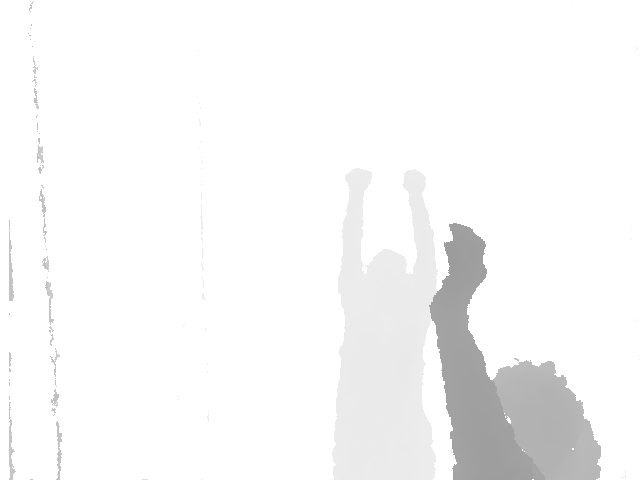hand: (442, 224, 487, 292), (402, 171, 426, 200), (344, 168, 372, 190)
head: (487, 361, 600, 480), (366, 249, 407, 287)
person: (427, 224, 600, 480), (331, 168, 438, 480)
